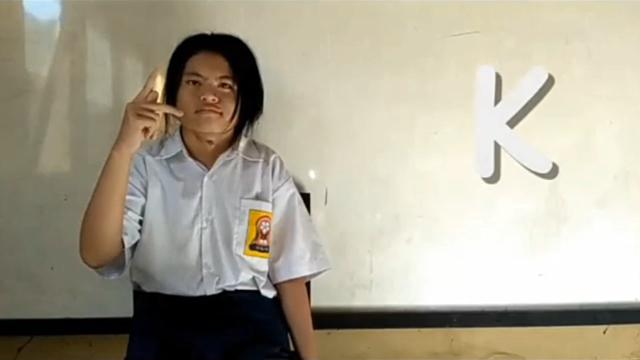K: (117, 68, 185, 152)
